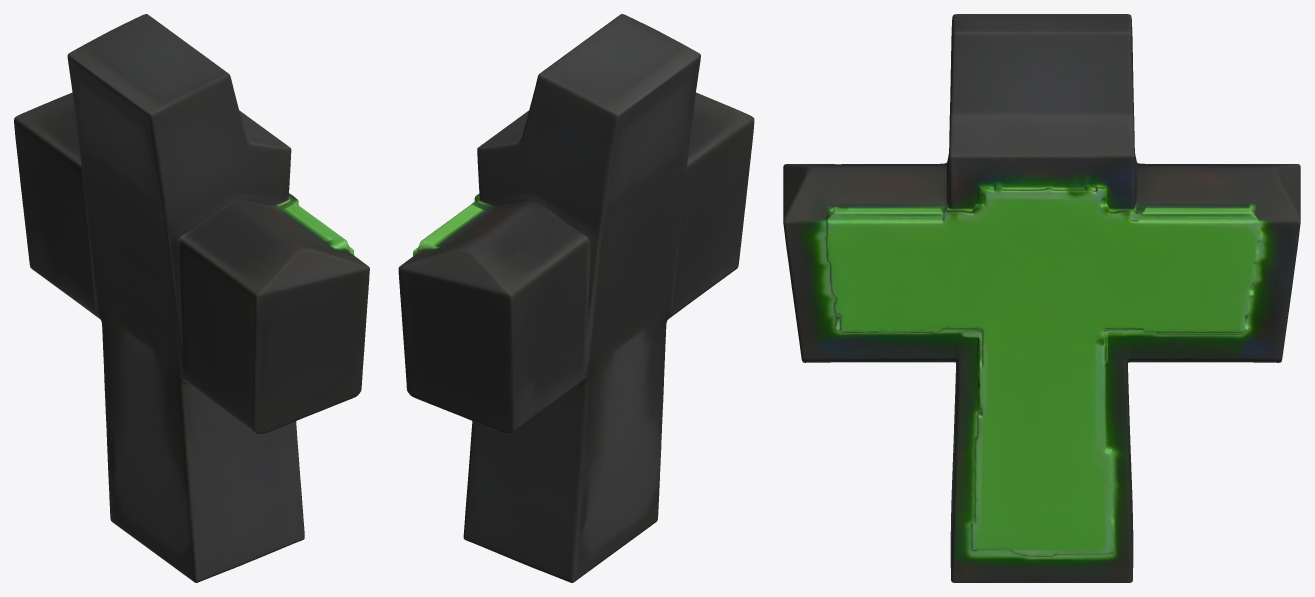
File: green cross 3d model.glb
The picture shows the model from 3 angles, left to right: view 1: azimuth 30°, elevation 25°; view 2: azimuth 150°, elevation 25°; view 3: azimuth 270°, elevation 25°; orthographic projection. The views are drawn at different scales.
Parts seen in each view (by area): view 1: tripo_node_fd7d9a17-f781-4bba-be33-7cfcb661380f; view 2: tripo_node_fd7d9a17-f781-4bba-be33-7cfcb661380f; view 3: tripo_node_fd7d9a17-f781-4bba-be33-7cfcb661380f.
Part boxes in pixels (x1,y1,x2,y2): tripo_node_fd7d9a17-f781-4bba-be33-7cfcb661380f: (14,14,369,582); tripo_node_fd7d9a17-f781-4bba-be33-7cfcb661380f: (398,14,754,582); tripo_node_fd7d9a17-f781-4bba-be33-7cfcb661380f: (783,14,1300,582).
Size of the model in its own units: 0.3307 by 1 by 0.8831.
Materials: 1 (1 with a texture image).
